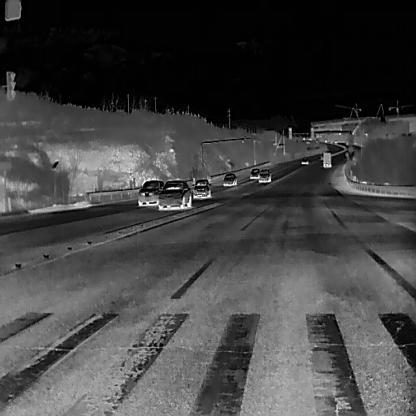car: (157, 179, 192, 210), (137, 179, 165, 207), (191, 178, 211, 198), (257, 168, 271, 183), (222, 172, 237, 186), (321, 151, 332, 167), (249, 167, 259, 179), (300, 156, 309, 164), (345, 138, 348, 145), (324, 138, 327, 142), (334, 139, 337, 143), (315, 139, 318, 142)
